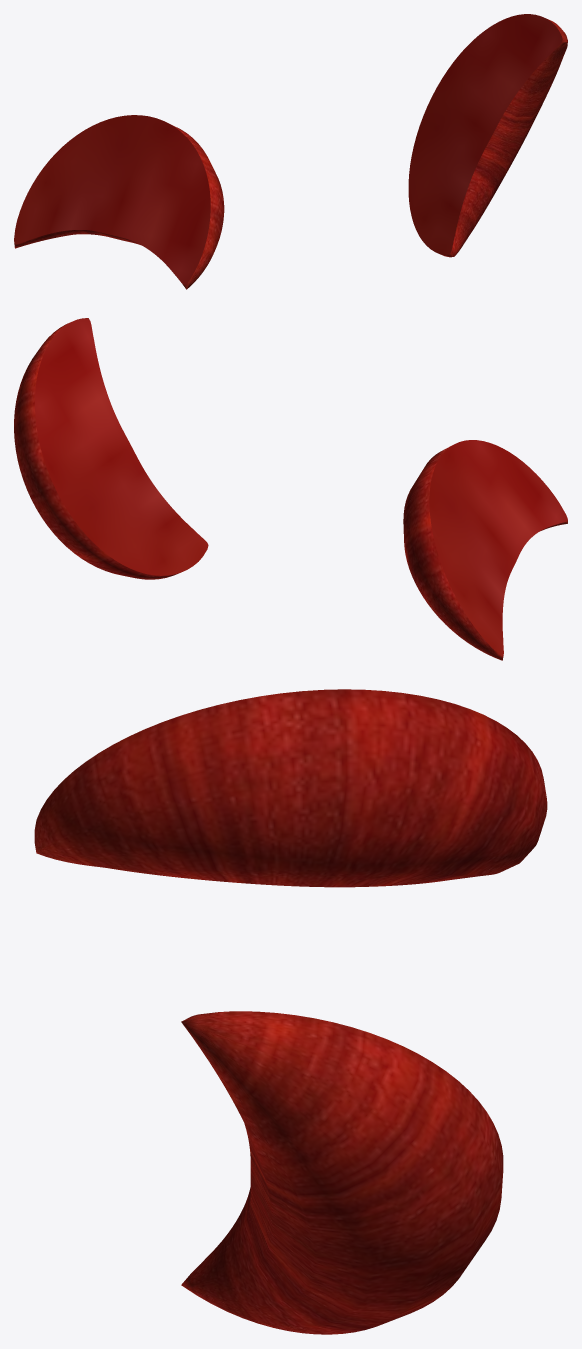
File: jiaobeii.glb
3 views of the same model, one above another, from view 1: azimuth 30°, elevation 25°; view 2: azimuth 150°, elevation 25°; view 3: azimuth 270°, elevation 25° (orthographic). The views are drawn at different scales.
Parts seen in each view (by area): view 1: JiaoOne, JiaoTwo; view 2: JiaoTwo, JiaoOne; view 3: JiaoOne, JiaoTwo.
Boxes of the visible parts, left/top/right/bottom form: JiaoOne: left=14, top=115, right=224, bottom=289; JiaoTwo: left=408, top=14, right=567, bottom=257; JiaoTwo: left=14, top=318, right=208, bottom=579; JiaoOne: left=403, top=440, right=567, bottom=660; JiaoOne: left=34, top=689, right=547, bottom=887; JiaoTwo: left=181, top=1011, right=503, bottom=1334.
Size of what is drawn, in the model's own units: 0.3733 by 0.1479 by 0.1679.
Materials: 1 (1 with a texture image).
